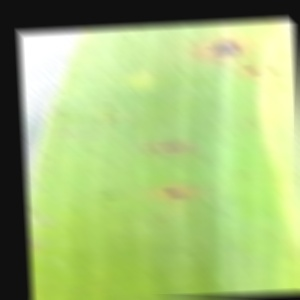Bacterial_Leaf_Blight: (208, 36, 245, 60), (158, 137, 191, 157), (161, 184, 191, 201), (29, 216, 58, 227), (30, 235, 46, 252), (254, 142, 276, 153), (242, 64, 262, 76), (94, 280, 114, 292), (150, 213, 174, 223), (264, 65, 282, 78), (199, 157, 220, 167), (100, 191, 119, 201), (242, 114, 259, 125), (178, 247, 198, 256), (71, 109, 88, 118), (64, 290, 79, 300), (56, 129, 74, 137), (237, 171, 254, 179), (145, 144, 160, 153), (105, 102, 120, 111), (53, 84, 66, 94), (28, 206, 44, 214), (138, 202, 152, 211), (46, 154, 59, 163), (223, 143, 236, 152), (174, 108, 187, 117), (138, 293, 153, 300), (273, 84, 288, 91), (66, 201, 79, 209), (51, 108, 64, 116), (150, 188, 164, 195), (223, 95, 235, 103), (85, 151, 98, 158), (107, 115, 119, 122), (37, 169, 49, 176), (111, 125, 121, 133), (37, 151, 48, 158), (132, 125, 144, 131), (186, 37, 196, 44), (227, 128, 237, 135), (89, 116, 100, 122), (68, 149, 81, 154), (117, 113, 125, 120), (75, 76, 82, 81)
